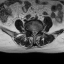CCS_stenosis: (33, 29, 35, 37)
LFS_stenosis: (37, 27, 39, 33)
LLS_normal: (35, 28, 37, 36)
RFS_severe_stenosis: (29, 27, 31, 33)
RLS_severe_stenosis: (31, 28, 33, 36)
